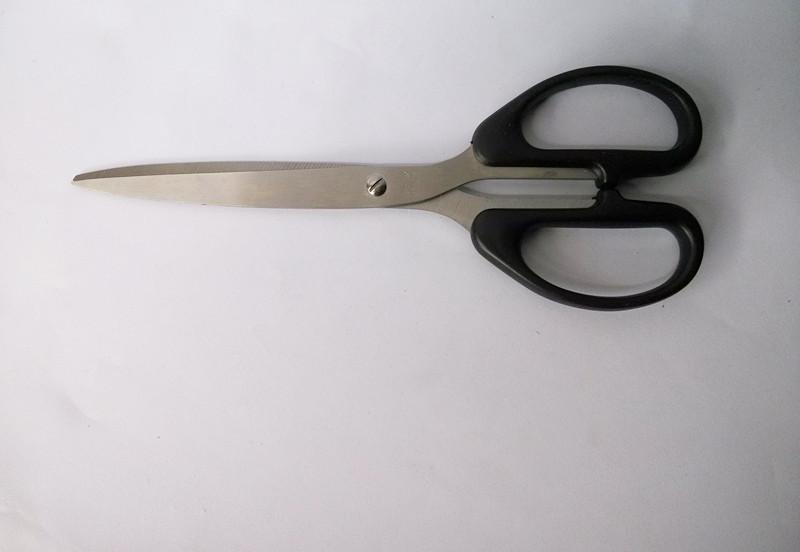scissor: (73, 62, 707, 310)
